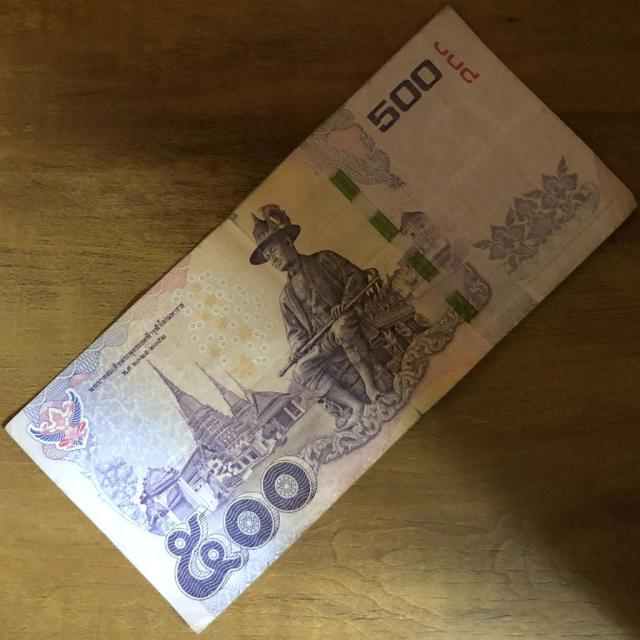THAI500: (6, 11, 634, 631)
